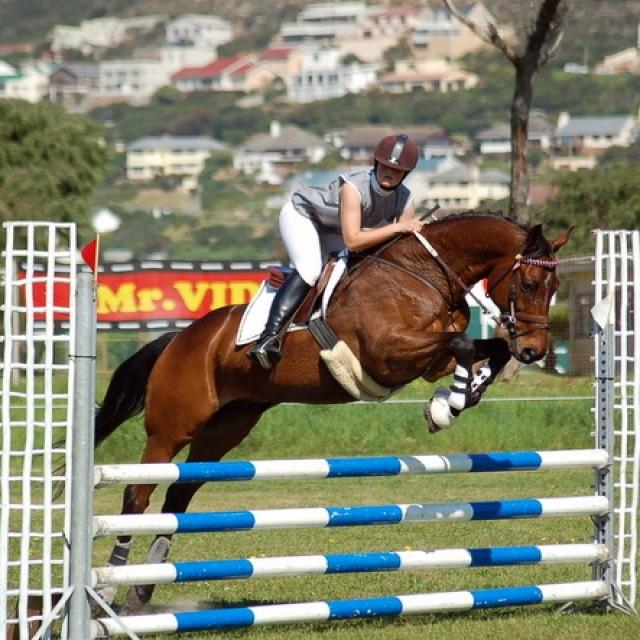horse: (93, 208, 579, 612)
person: (251, 135, 431, 363)
